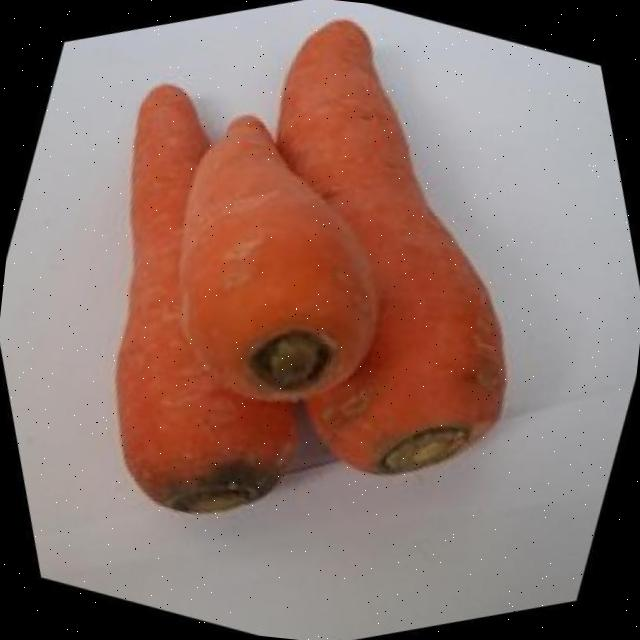carrot: (276, 22, 505, 473), (115, 85, 297, 512), (178, 118, 376, 401)
